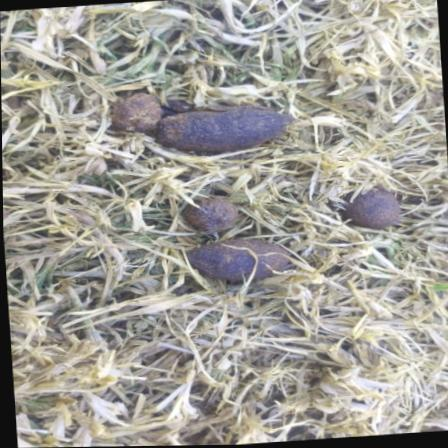dog-poop: (113, 68, 303, 159), (171, 184, 284, 287), (337, 178, 413, 241)
